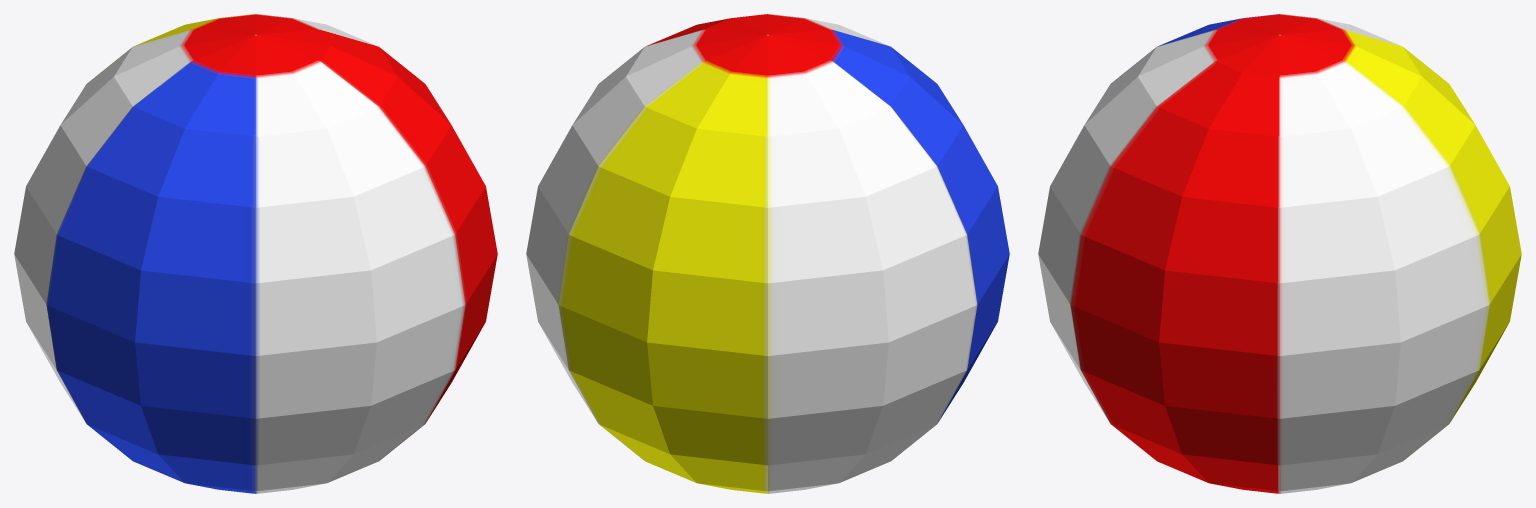
File: beach-ball.fbx
3 renders of one model, left to right at view 1: azimuth 30°, elevation 25°; view 2: azimuth 150°, elevation 25°; view 3: azimuth 270°, elevation 25°, orthographic.
Parts seen in each view (by area): view 1: Beach Ball; view 2: Beach Ball; view 3: Beach Ball.
Boxes of the visible parts, x1=… form: Beach Ball: x1=14, y1=14, x2=497, y2=493; Beach Ball: x1=526, y1=14, x2=1009, y2=493; Beach Ball: x1=1038, y1=14, x2=1521, y2=493.
Bounding box in the file's own units: 0.4 × 0.4 × 0.4.
1 material, 1 textured.
